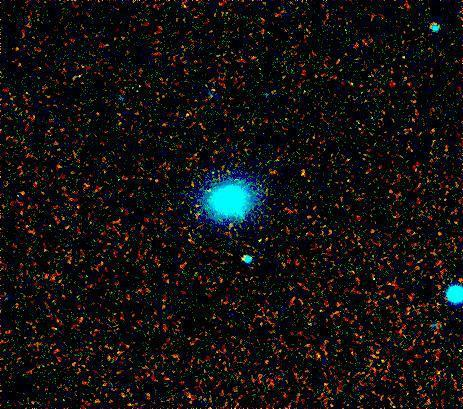star: (287, 158, 317, 188)
